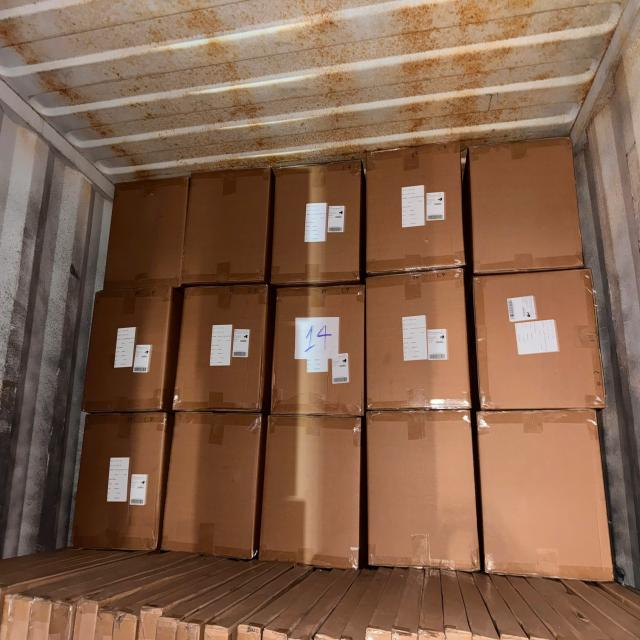Carton: (484, 412, 610, 578), (475, 268, 605, 411), (369, 410, 476, 570), (470, 139, 582, 274), (262, 413, 361, 565), (368, 270, 471, 410), (167, 412, 260, 558), (68, 414, 162, 549), (368, 144, 464, 274), (272, 286, 363, 416), (176, 288, 266, 414), (84, 289, 172, 414), (271, 164, 360, 285), (185, 171, 269, 284), (103, 180, 186, 286)
